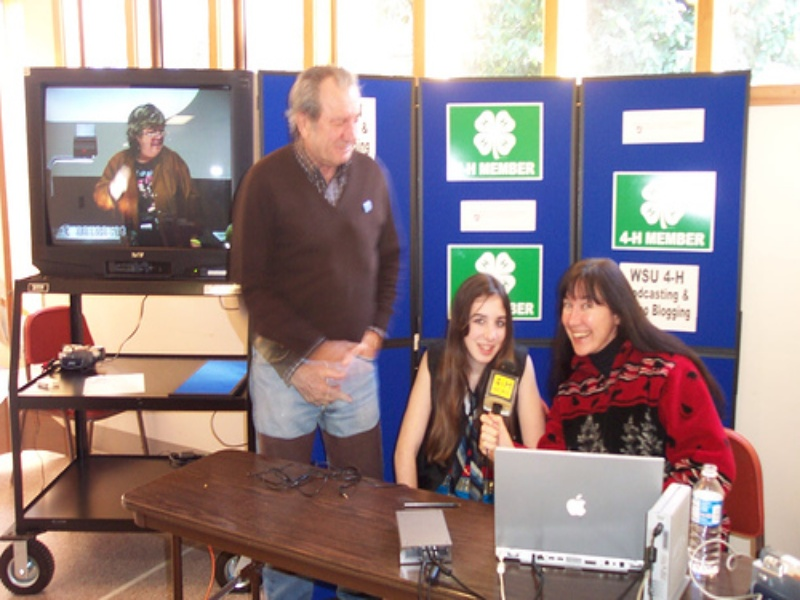person: (229, 68, 401, 474), (535, 258, 735, 499), (393, 273, 544, 496), (93, 103, 196, 222)
